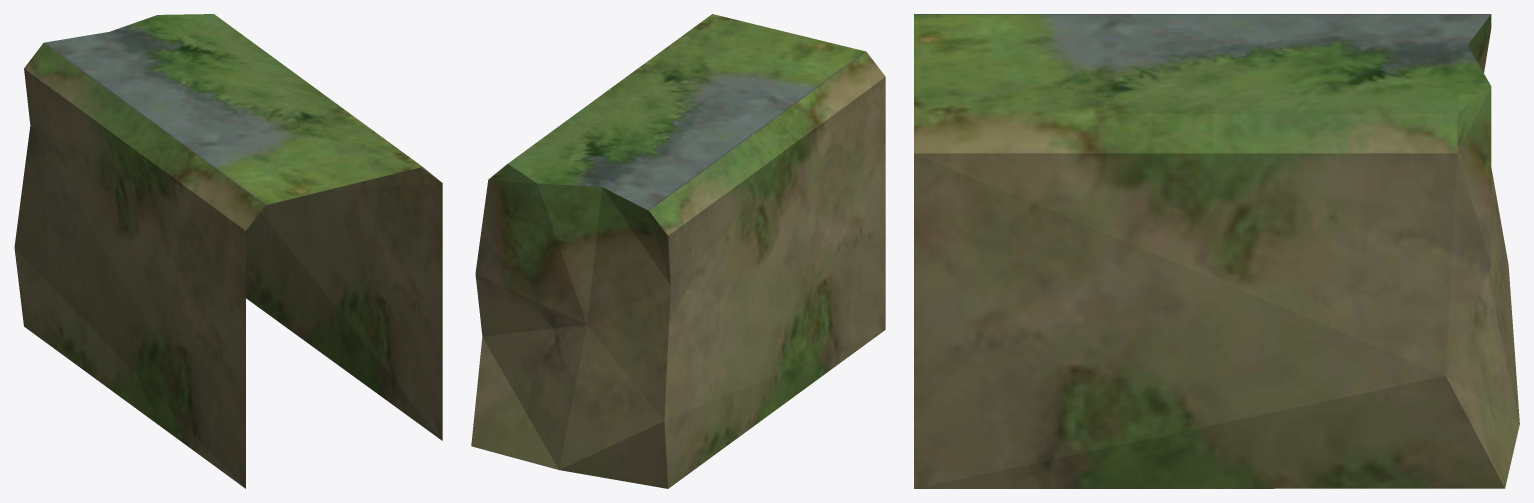
The model's file is shitouyiji_05.FBX.
The picture shows the model from 3 angles, left to right: view 1: azimuth 30°, elevation 25°; view 2: azimuth 150°, elevation 25°; view 3: azimuth 270°, elevation 25°; orthographic projection. The views are drawn at different scales.
Parts seen in each view (by area): view 1: shitouyiji_05; view 2: shitouyiji_05; view 3: shitouyiji_05.
Part boxes in pixels (box(x1,y1,x2,y2)): shitouyiji_05: box(14, 14, 442, 488); shitouyiji_05: box(471, 14, 885, 488); shitouyiji_05: box(914, 14, 1519, 488).
Bounding box in the file's own units: 53.48 × 68.92 × 103.
